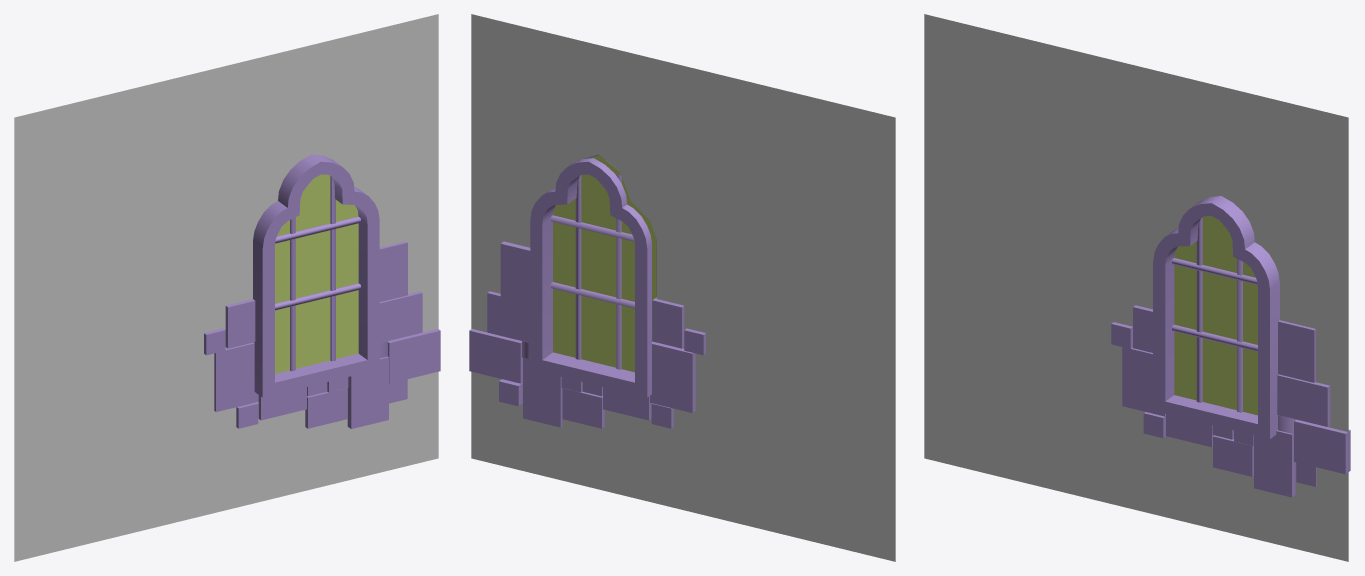
The model's file is window_b_outside_variant_b.fbx.
3 views of the same model, side by side, from view 1: azimuth 30°, elevation 25°; view 2: azimuth 150°, elevation 25°; view 3: azimuth 330°, elevation 25° (orthographic).
Parts seen in each view (by area): view 1: varinant_b; view 2: varinant_b; view 3: varinant_b.
Part boxes in pixels (x1=…): varinant_b: x1=14, y1=14, x2=440, y2=561; varinant_b: x1=469, y1=14, x2=895, y2=561; varinant_b: x1=924, y1=14, x2=1350, y2=561.
Size of the model in its own units: 5 by 5 by 0.4.
